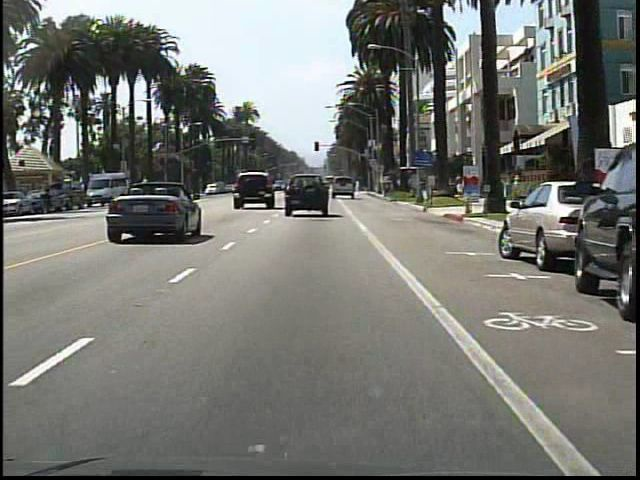person: (42, 177, 58, 216)
